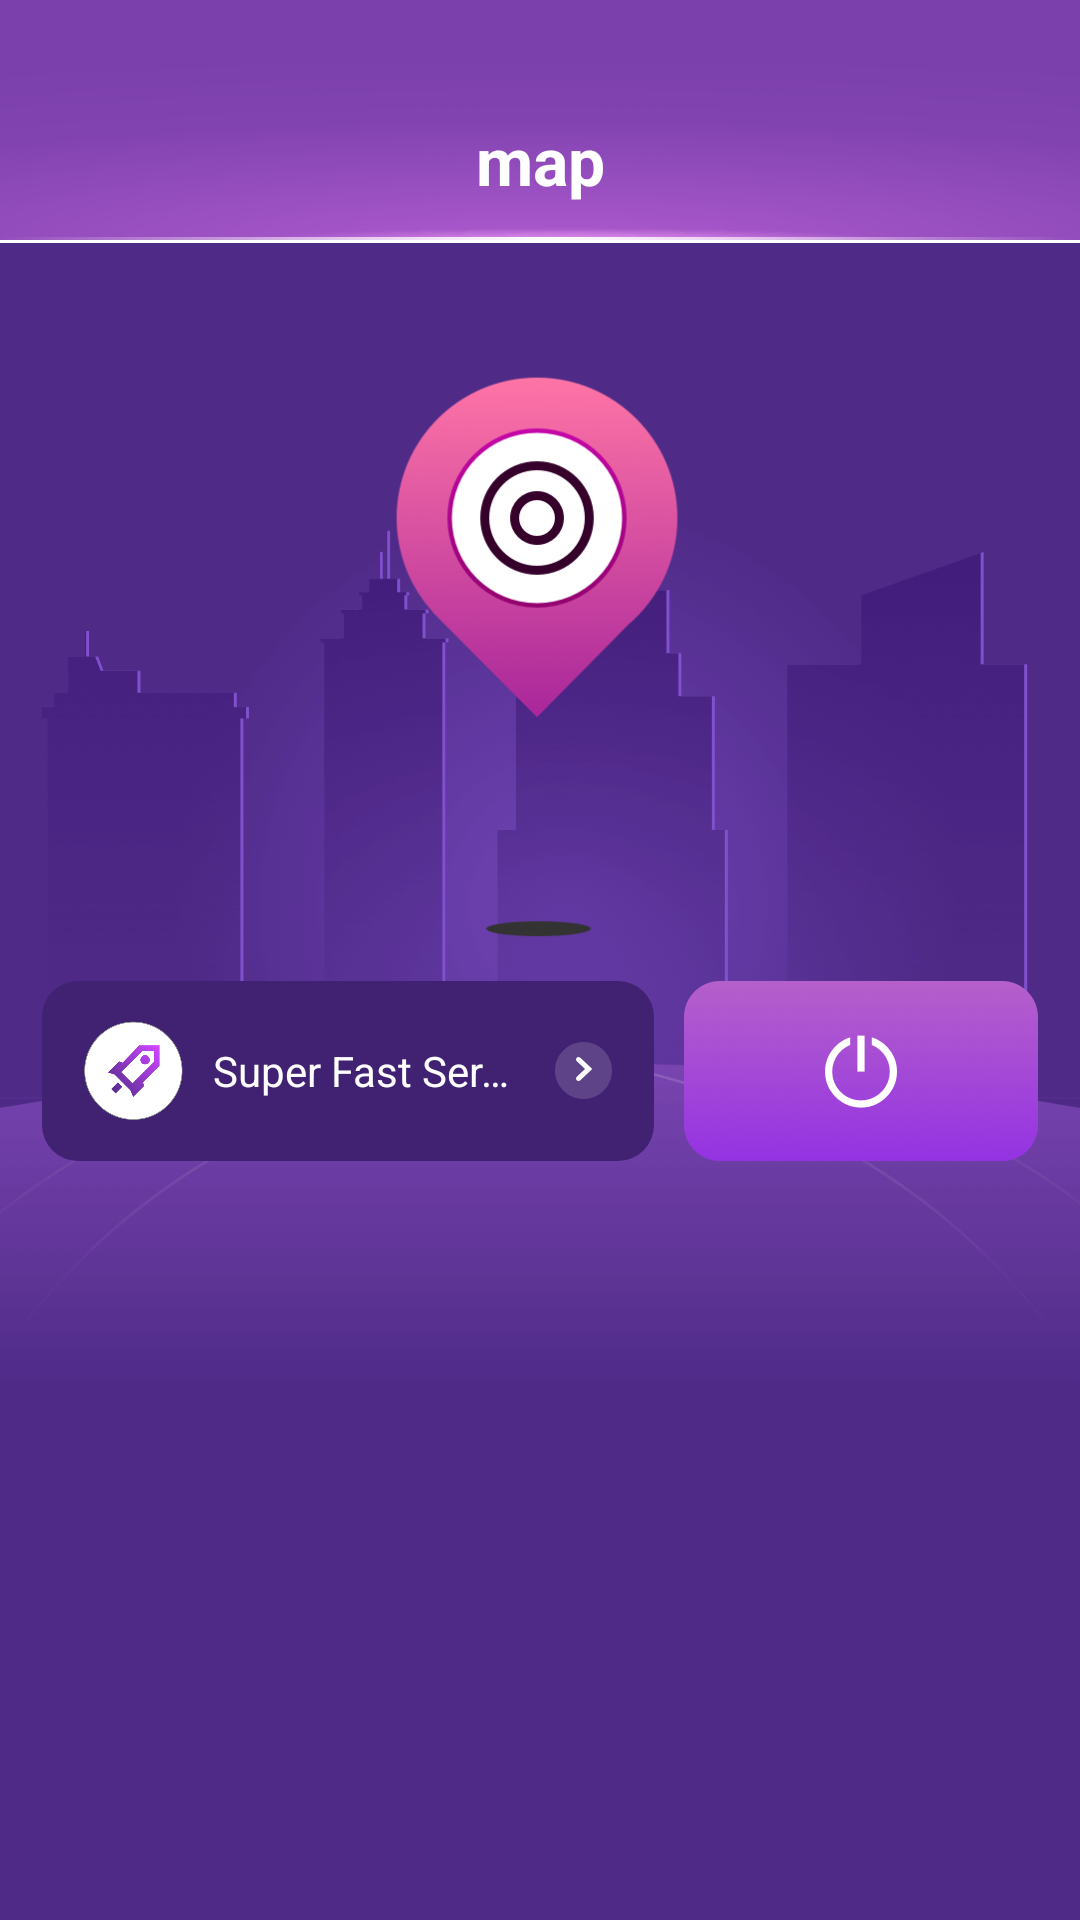

Named icons in this screenshot (1080*1920) and their bounding boxes, (x1, y1, x2, y2):
right: (555, 1042, 612, 1099)
